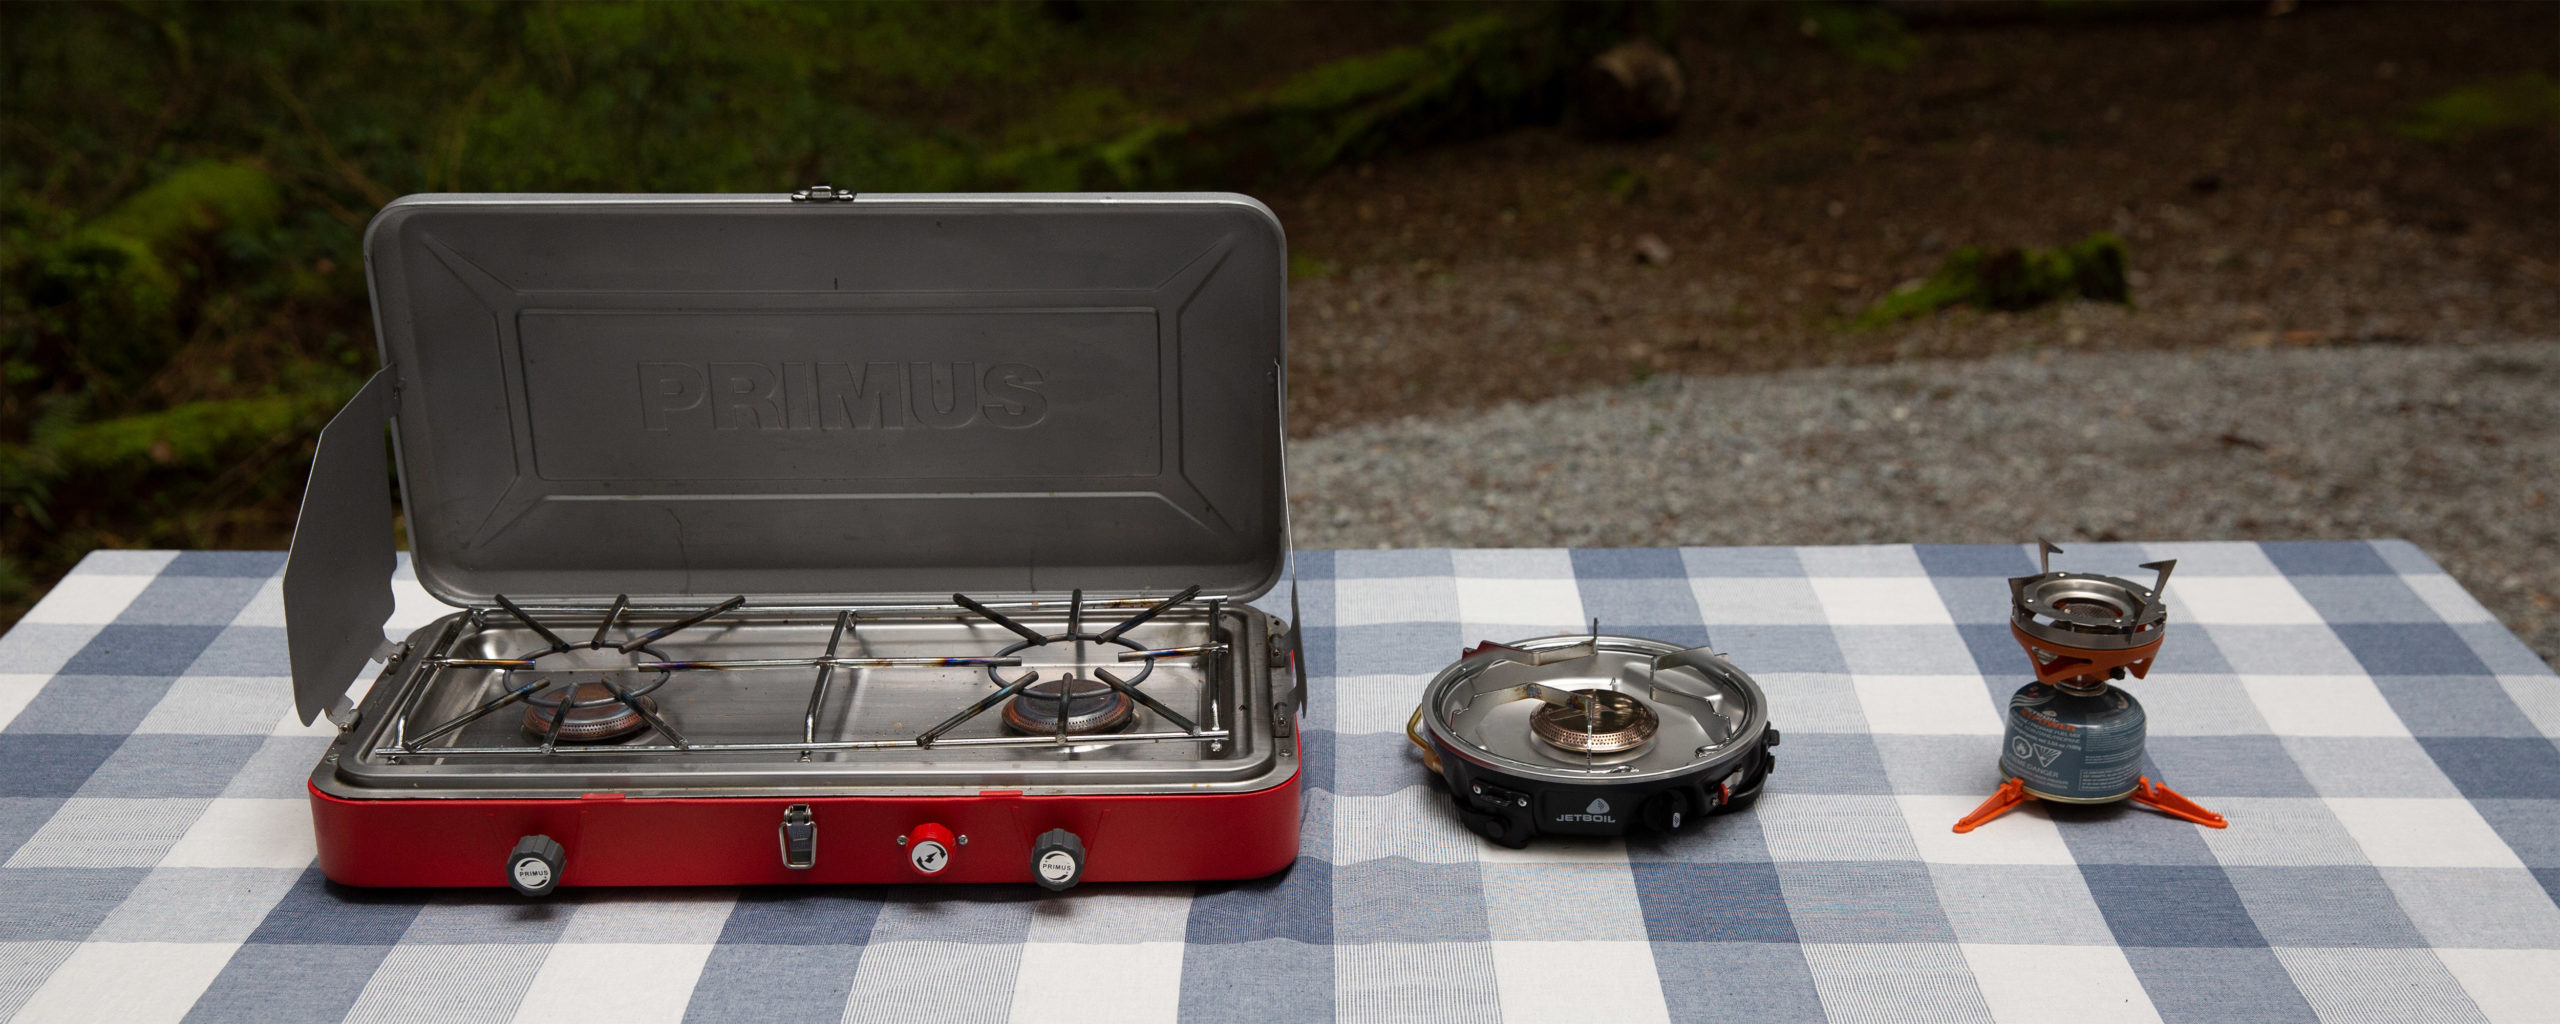stove: (289, 168, 1262, 884)
